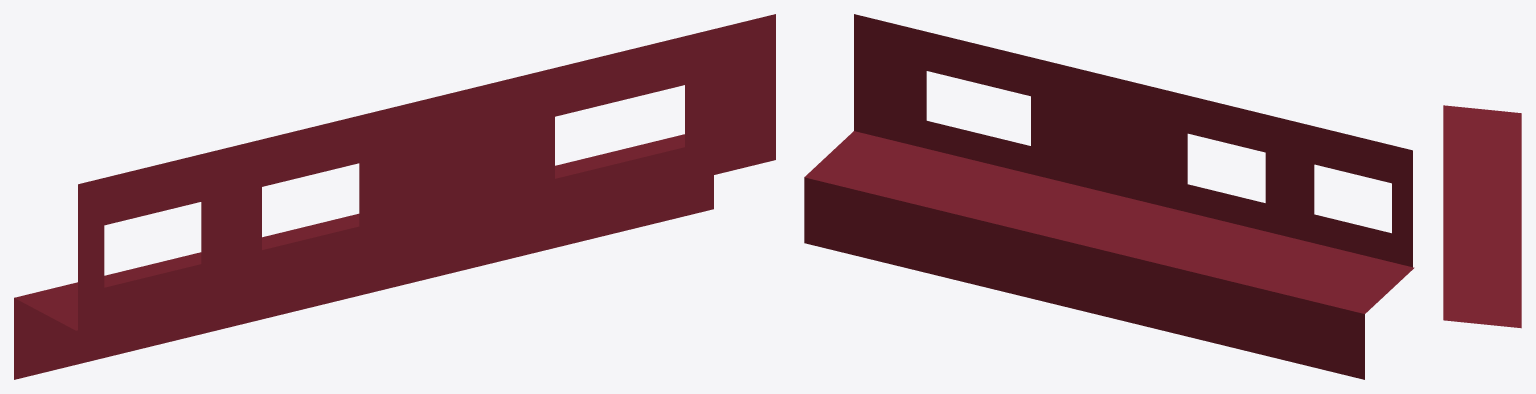
The model's file is Wall-Garage-Front.fbx.
The picture shows the model from 3 angles, left to right: view 1: azimuth 30°, elevation 25°; view 2: azimuth 150°, elevation 25°; view 3: azimuth 270°, elevation 25°; orthographic projection. The views are drawn at different scales.
Visible parts, largest first — view 1: Cube.1224; view 2: Cube.1224; view 3: Cube.1224.
Part boxes in pixels (<box>): Cube.1224: <box>14,14,775,379</box>; Cube.1224: <box>804,14,1414,379</box>; Cube.1224: <box>1443,105,1521,328</box>.
Bounding box in the file's own units: 736 × 242 × 113.
